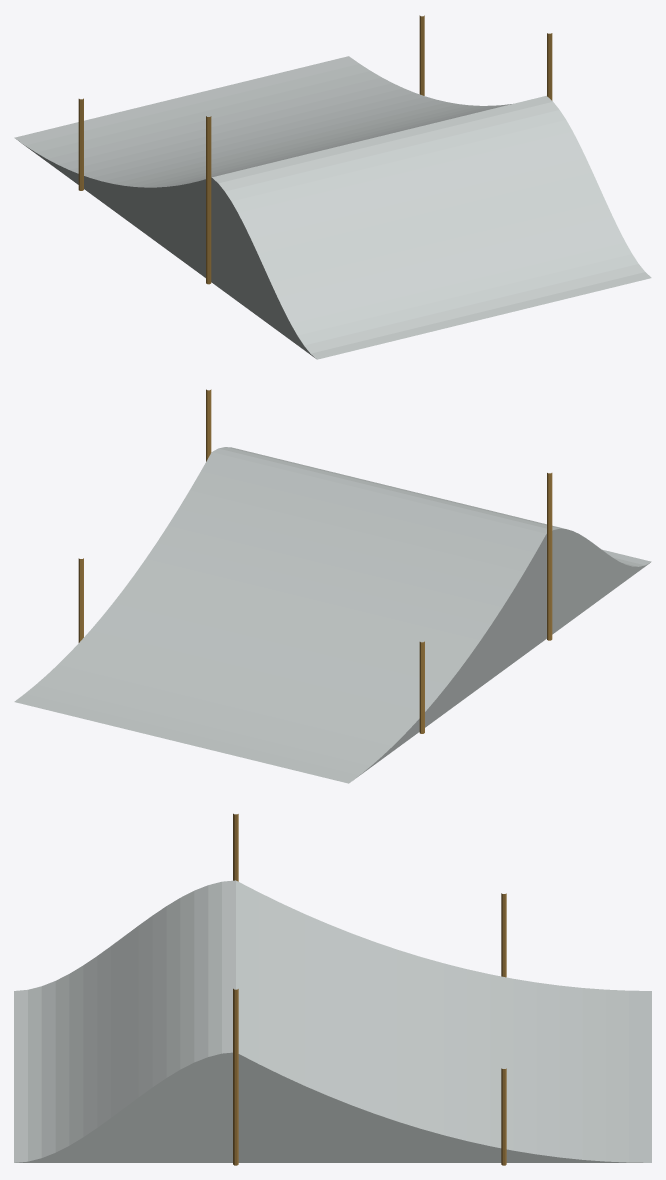
The model's file is snow-ramp.glb.
3 renders of one model, top to bottom at view 1: azimuth 30°, elevation 25°; view 2: azimuth 150°, elevation 25°; view 3: azimuth 270°, elevation 25°, orthographic. The views are drawn at different scales.
Visible parts, largest first — view 1: snow-ramp; view 2: snow-ramp; view 3: snow-ramp.
Part boxes in pixels (x1,y1,x2,y2): snow-ramp: [14, 15, 651, 359]; snow-ramp: [14, 389, 651, 783]; snow-ramp: [14, 813, 651, 1165].
Size of the model in its own units: 4.53 by 2.1 by 6.9.
